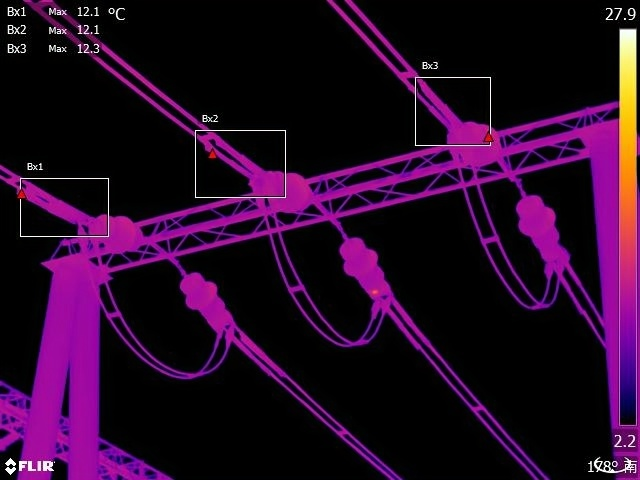clamp: (540, 251, 575, 281), (211, 319, 242, 352), (365, 291, 400, 320), (66, 216, 93, 250)
insulator: (252, 162, 321, 220), (514, 191, 570, 262), (336, 230, 397, 295), (182, 266, 237, 332), (446, 115, 509, 171), (82, 203, 146, 252)
